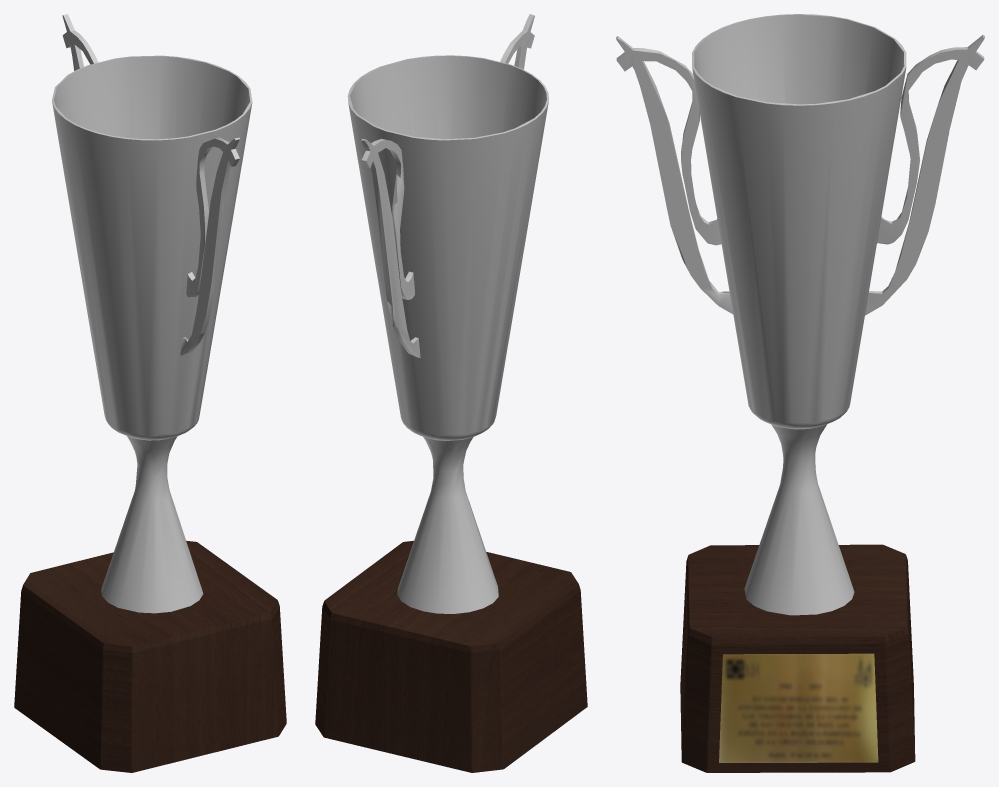
File: Trophy 1.FBX
3 renders of one model, left to right at view 1: azimuth 30°, elevation 25°; view 2: azimuth 150°, elevation 25°; view 3: azimuth 270°, elevation 25°, orthographic. The views are drawn at different scales.
Visible parts, largest first — view 1: trophy 1; view 2: trophy 1; view 3: trophy 1.
Part boxes in pixels (left/top/right/bottom): trophy 1: left=14, top=14, right=286, bottom=772; trophy 1: left=315, top=14, right=587, bottom=772; trophy 1: left=616, top=14, right=984, bottom=772.
Size of the model in its own units: 228 by 735 by 357.
